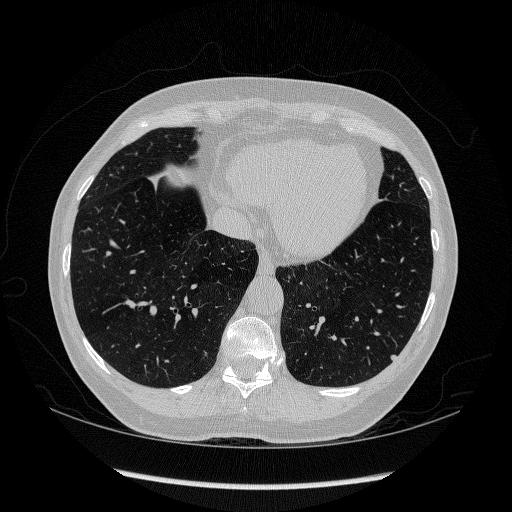nodule: (388, 352, 399, 363)
